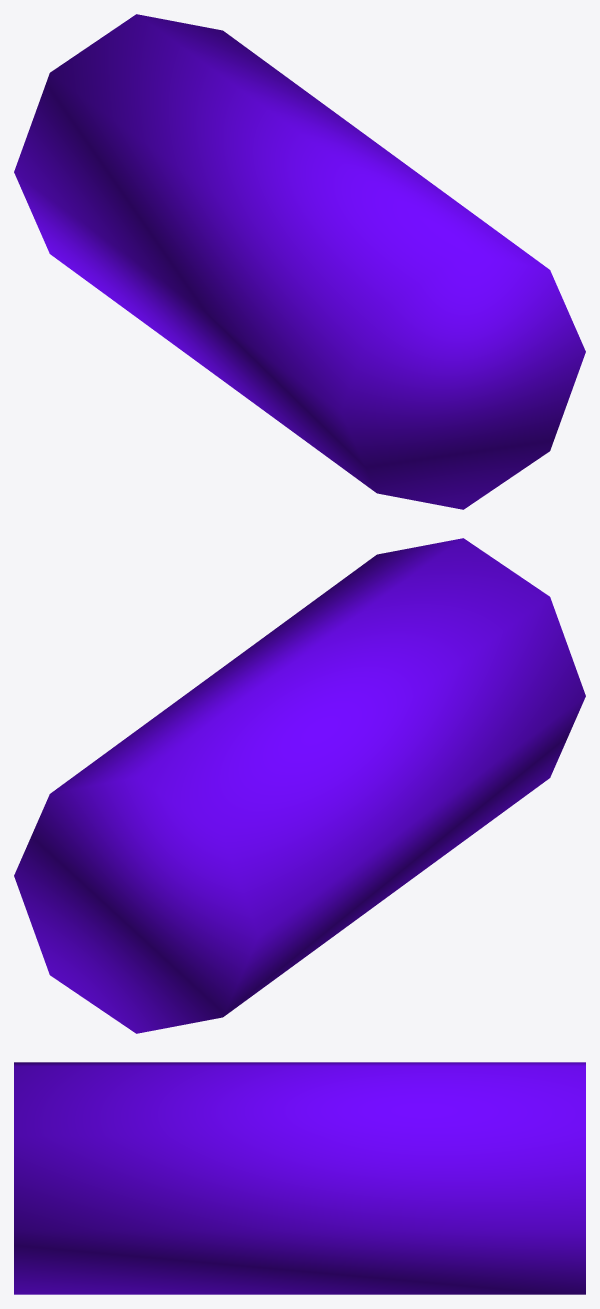
Rendered from hospital_staff_medicine_pill_1_meshCollider.fbx.
3 renders of one model, top to bottom at view 1: azimuth 30°, elevation 25°; view 2: azimuth 150°, elevation 25°; view 3: azimuth 270°, elevation 25°, orthographic. The views are drawn at different scales.
Parts seen in each view (by area): view 1: hospital_staff_medicine_pill_1_meshCollider; view 2: hospital_staff_medicine_pill_1_meshCollider; view 3: hospital_staff_medicine_pill_1_meshCollider.
Part boxes in pixels (<box>): hospital_staff_medicine_pill_1_meshCollider: <box>14,14,585,509</box>; hospital_staff_medicine_pill_1_meshCollider: <box>14,538,585,1033</box>; hospital_staff_medicine_pill_1_meshCollider: <box>14,1062,585,1294</box>.
Bounding box in the file's own units: 1.4 × 1.4 × 3.25.
